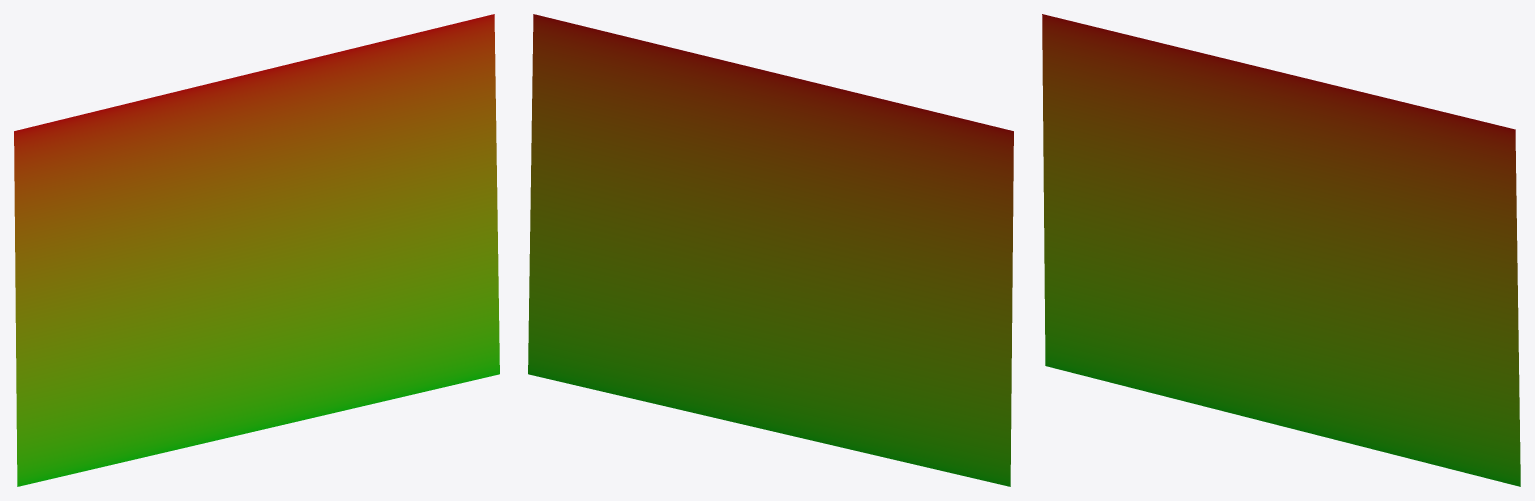
File: Fern_LOD3_Var1_rmAsg.fbx
3 renders of one model, left to right at view 1: azimuth 30°, elevation 25°; view 2: azimuth 150°, elevation 25°; view 3: azimuth 330°, elevation 25°, orthographic.
Visible parts, largest first — view 1: _e94c_Var1_LOD3; view 2: _e94c_Var1_LOD3; view 3: _e94c_Var1_LOD3.
Boxes of the visible parts, x1,y1,x2,y2 form: _e94c_Var1_LOD3: (14,14,499,486); _e94c_Var1_LOD3: (528,14,1013,486); _e94c_Var1_LOD3: (1042,14,1520,486).
Size of the model in its own units: 156 by 111 by 3.81e-06.
